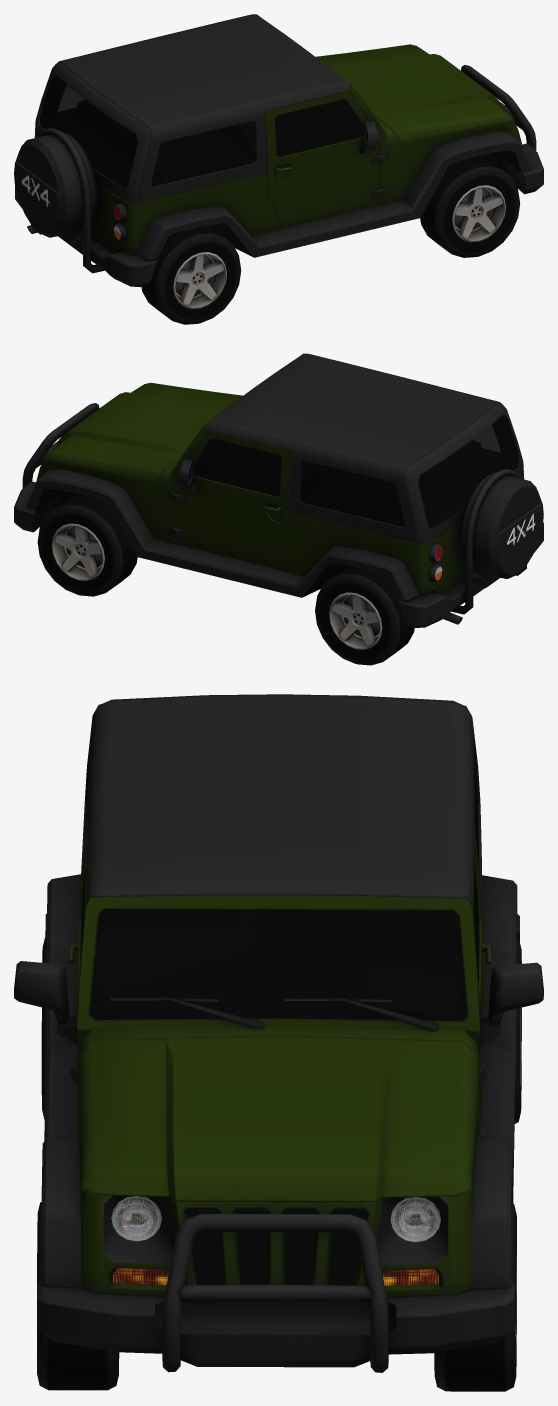
File: suv2.glb
The picture shows the model from 3 angles, top to bottom: view 1: azimuth 30°, elevation 25°; view 2: azimuth 150°, elevation 25°; view 3: azimuth 270°, elevation 25°; orthographic projection. The views are drawn at different scales.
Visible parts, largest first — view 1: Offroad Body_Body_0; view 2: Offroad Body_Body_0; view 3: Offroad Body_Body_0.
Boxes of the visible parts, x1=… form: Offroad Body_Body_0: x1=14, y1=14, x2=543, y2=324; Offroad Body_Body_0: x1=14, y1=353, x2=543, y2=665; Offroad Body_Body_0: x1=14, y1=694, x2=543, y2=1391.
Size of the model in its own units: 3.94 by 1.57 by 1.96.
Materials: 4 (3 with a texture image).
